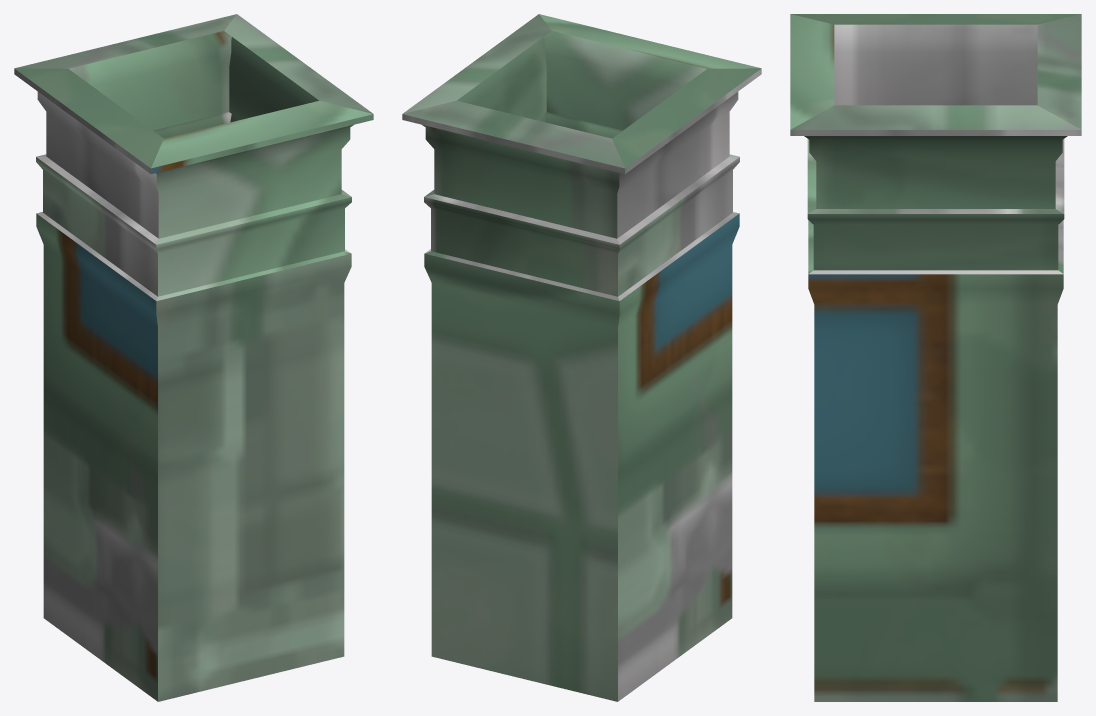
File: qVin_Buld1_F2Column_Left.fbx
3 views of the same model, side by side, from view 1: azimuth 30°, elevation 25°; view 2: azimuth 150°, elevation 25°; view 3: azimuth 270°, elevation 25° (orthographic). The views are drawn at different scales.
Parts seen in each view (by area): view 1: qVin_Buld1_F2Column_Left; view 2: qVin_Buld1_F2Column_Left; view 3: qVin_Buld1_F2Column_Left.
Boxes of the visible parts, x1,y1,x2,y2 form: qVin_Buld1_F2Column_Left: (14, 14, 373, 701); qVin_Buld1_F2Column_Left: (402, 14, 761, 701); qVin_Buld1_F2Column_Left: (790, 14, 1081, 701).
Bounding box in the file's own units: 128 × 302 × 136.
Materials: 1 (1 with a texture image).
